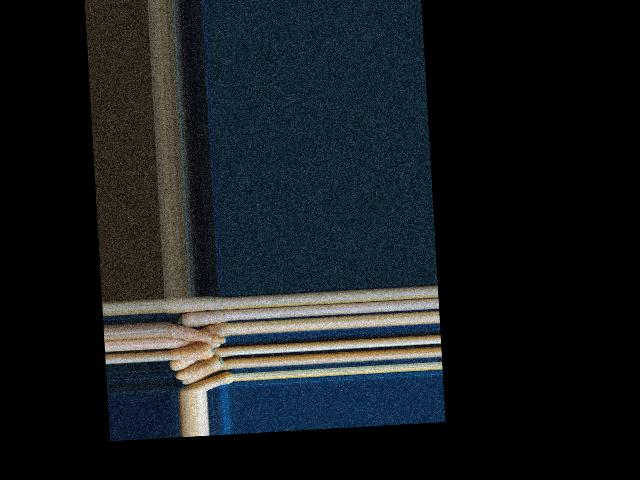carrot: (166, 296, 229, 313)
